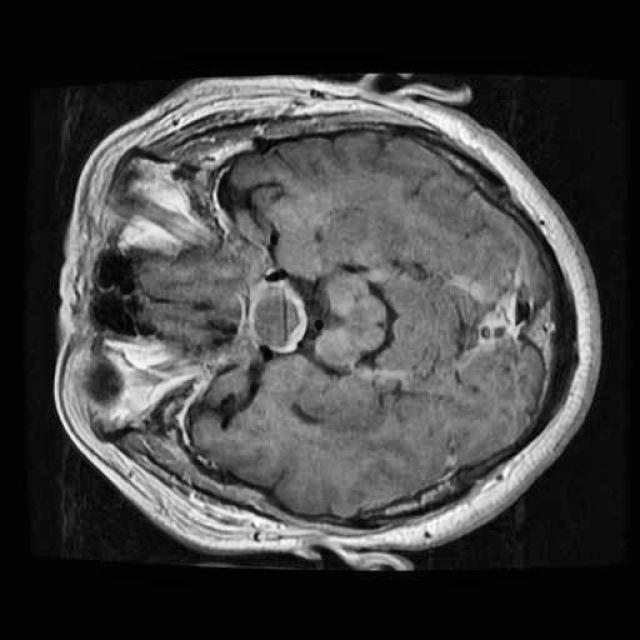Tumor: (235, 268, 324, 366)
